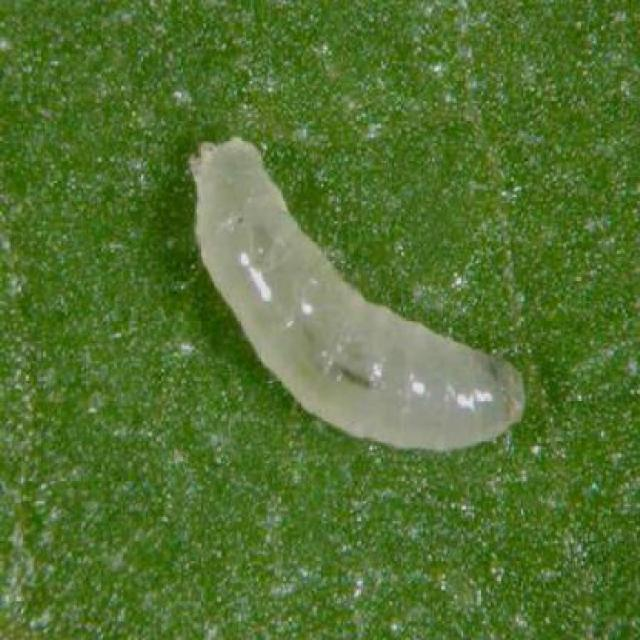whorl-maggot: (182, 130, 532, 462)
